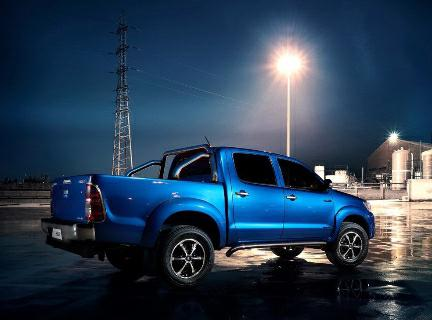丰田-Tacoma: (43, 139, 380, 287)
